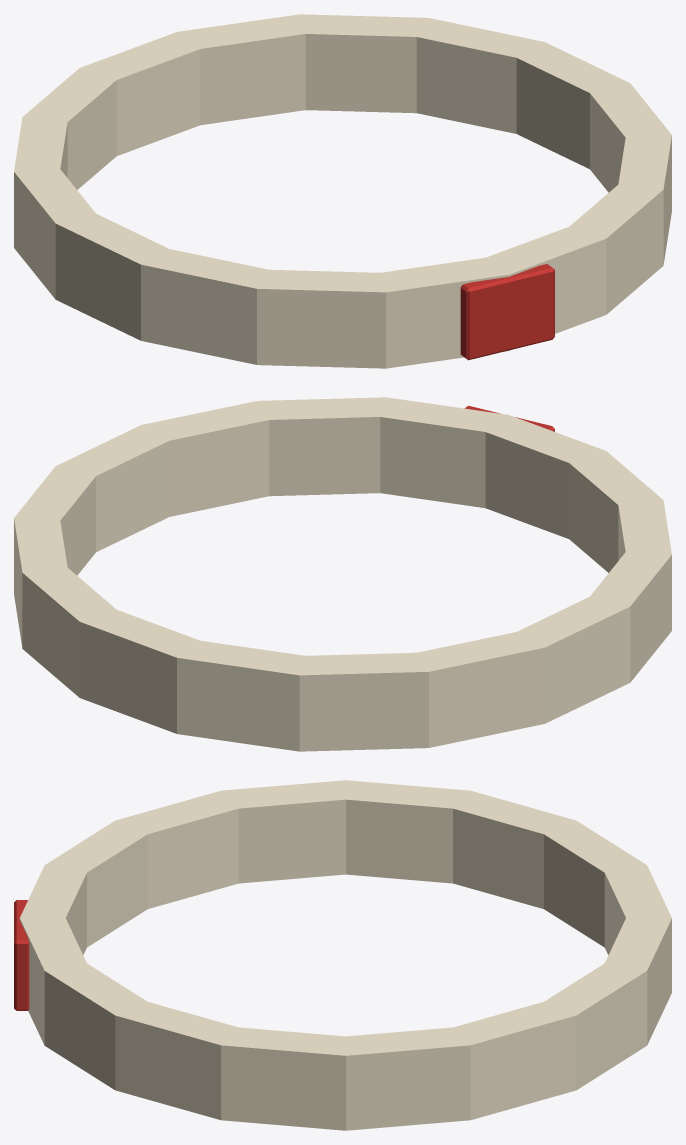
The model's file is DroneGuard.fbx.
The picture shows the model from 3 angles, top to bottom: view 1: azimuth 30°, elevation 25°; view 2: azimuth 150°, elevation 25°; view 3: azimuth 270°, elevation 25°; orthographic projection.
Visible parts, largest first — view 1: Body.002; view 2: Body.002; view 3: Body.002.
Boxes of the visible parts, x1,y1,x2,y2 form: Body.002: (14,14,671,368); Body.002: (14,397,671,751); Body.002: (14,780,671,1130).
Bounding box in the file's own units: 1.42 × 0.18 × 1.43.
